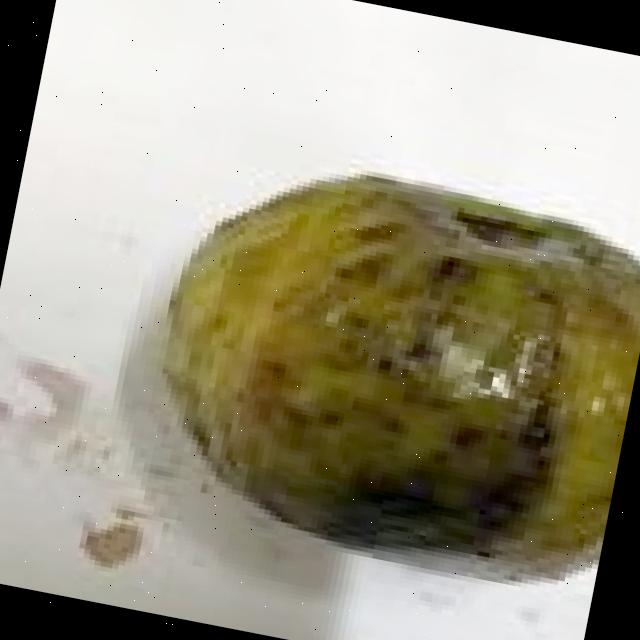Bad_Guava 0 day: (163, 175, 640, 580)
